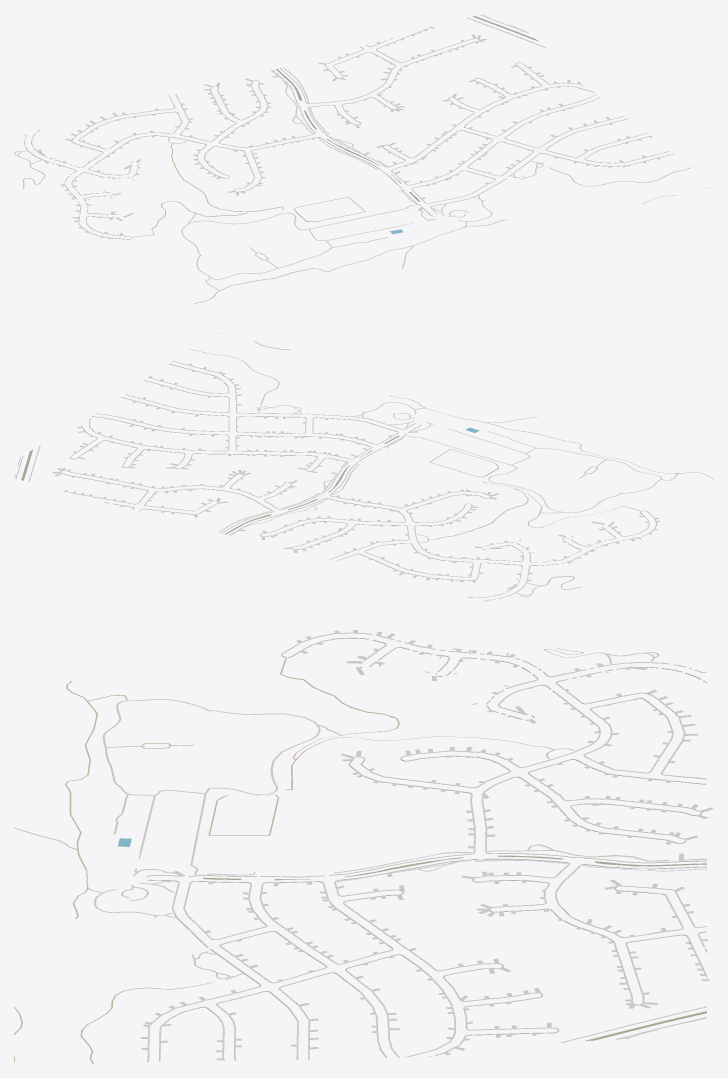
Rendered from ground_r5_c4.glb.
3 views of the same model, one above another, from view 1: azimuth 30°, elevation 25°; view 2: azimuth 150°, elevation 25°; view 3: azimuth 270°, elevation 25° (orthographic). The views are drawn at different scales.
Visible parts, largest first — view 1: sidewalks, paths, driveways; view 2: sidewalks, driveways, paths; view 3: sidewalks, driveways, paths, medians.
Boxes of the visible parts, bbox=[...] form: sidewalks: bbox=[24, 15, 673, 239]; paths: bbox=[14, 14, 712, 303]; driveways: bbox=[38, 26, 660, 239]; sidewalks: bbox=[15, 361, 657, 601]; driveways: bbox=[52, 363, 659, 589]; paths: bbox=[14, 332, 713, 597]; sidewalks: bbox=[146, 632, 706, 1061]; driveways: bbox=[141, 630, 713, 1060]; paths: bbox=[14, 648, 706, 1063]; medians: bbox=[203, 855, 706, 1040].
Bounding box in the file's own units: 1126 × 55.33 × 795.
